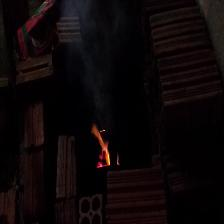fire: (90, 125, 114, 167)
smoke: (83, 10, 108, 119)
